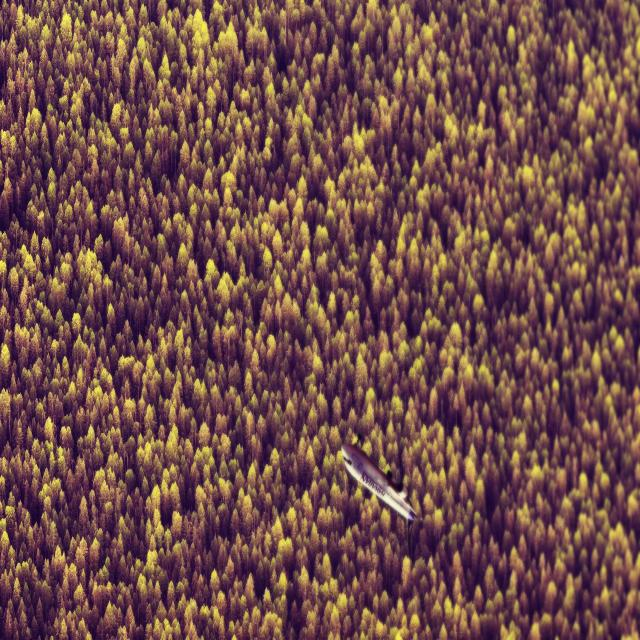airplane: (340, 440, 418, 545)
